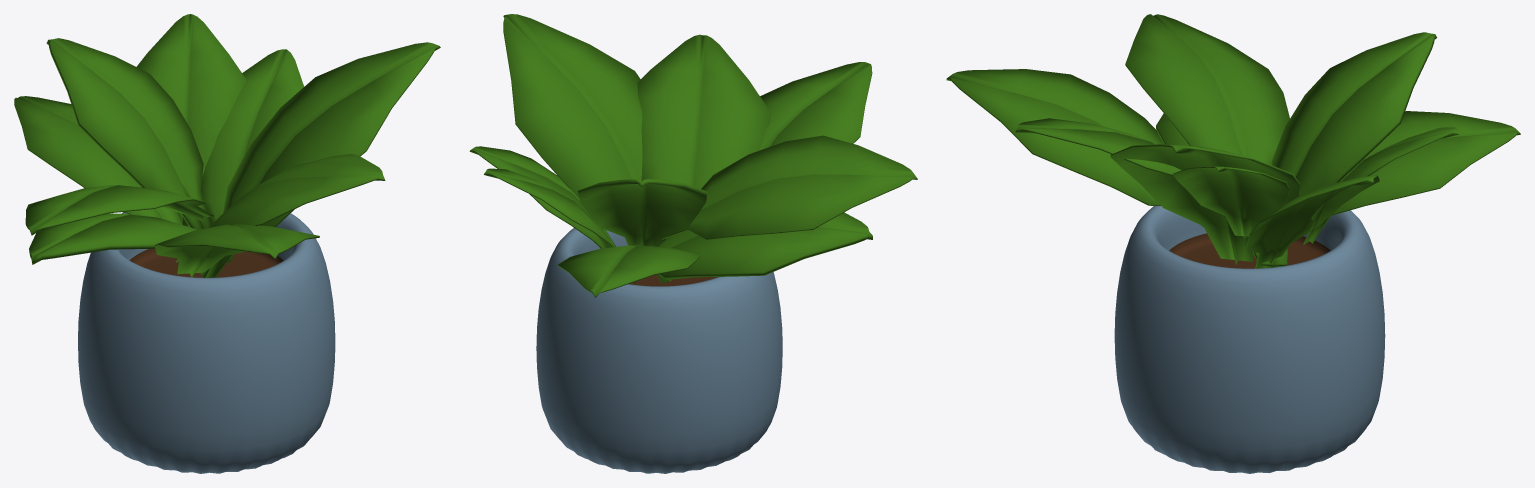
File: Plant_Two.fbx
The picture shows the model from 3 angles, left to right: view 1: azimuth 30°, elevation 25°; view 2: azimuth 150°, elevation 25°; view 3: azimuth 270°, elevation 25°; orthographic projection. The views are drawn at different scales.
Parts seen in each view (by area): view 1: Circle, Plane.012, Plane.020, Plane.019, Plane.013, Plane.014, Plane.017, Plane.015, Plane.021, Plane.016; view 2: Circle, Plane.012, Plane.021, Plane.017, Plane.015, Plane.016, Plane.020, Plane.014, Plane.013, Plane.019; view 3: Circle, Plane.021, Plane.020, Plane.016, Plane.014, Plane.012, Plane.018, Plane.013, Plane.017, Plane.019, Plane.015.
Boxes of the visible parts, x1=… form: Circle: x1=78, y1=212, x2=335, y2=473; Plane.012: x1=200, y1=42, x2=440, y2=277; Plane.020: x1=46, y1=38, x2=211, y2=229; Plane.019: x1=136, y1=14, x2=246, y2=226; Plane.013: x1=201, y1=49, x2=304, y2=262; Plane.014: x1=14, y1=96, x2=182, y2=224; Plane.017: x1=175, y1=154, x2=385, y2=262; Plane.015: x1=29, y1=213, x2=197, y2=264; Plane.021: x1=25, y1=185, x2=213, y2=235; Plane.016: x1=154, y1=224, x2=319, y2=277; Circle: x1=536, y1=228, x2=782, y2=473; Plane.012: x1=503, y1=14, x2=672, y2=283; Plane.021: x1=662, y1=135, x2=917, y2=240; Plane.017: x1=637, y1=34, x2=771, y2=239; Plane.015: x1=659, y1=212, x2=872, y2=279; Plane.016: x1=759, y1=62, x2=872, y2=150; Plane.020: x1=578, y1=179, x2=707, y2=246; Plane.014: x1=558, y1=245, x2=700, y2=297; Plane.013: x1=469, y1=146, x2=635, y2=283; Plane.019: x1=484, y1=168, x2=614, y2=247; Circle: x1=1114, y1=206, x2=1385, y2=473; Plane.021: x1=1125, y1=14, x2=1289, y2=164; Plane.020: x1=1271, y1=32, x2=1436, y2=196; Plane.016: x1=946, y1=69, x2=1203, y2=227; Plane.014: x1=1330, y1=111, x2=1520, y2=216; Plane.012: x1=1110, y1=144, x2=1300, y2=264; Plane.018: x1=1173, y1=166, x2=1289, y2=238; Plane.013: x1=1246, y1=174, x2=1379, y2=268; Plane.017: x1=1015, y1=118, x2=1205, y2=188; Plane.019: x1=1303, y1=127, x2=1458, y2=244; Plane.015: x1=1156, y1=113, x2=1287, y2=267.
Size of the model in its own units: 214 by 241 by 185.
